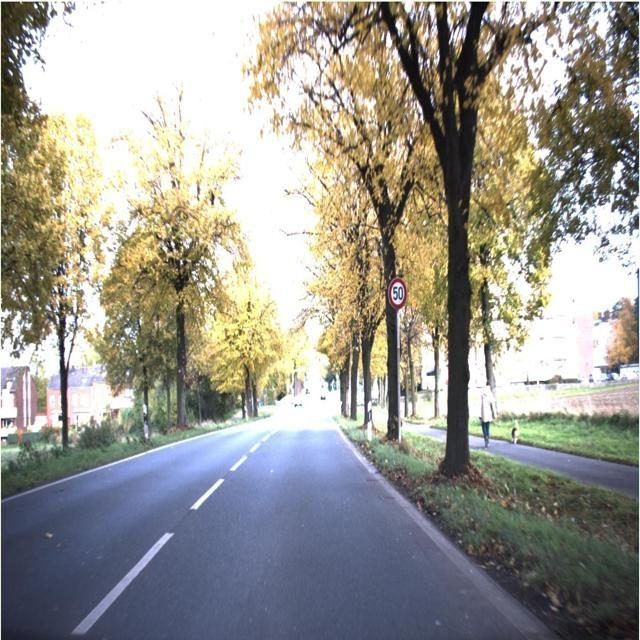forb_speed_over_50: (388, 276, 407, 309)
